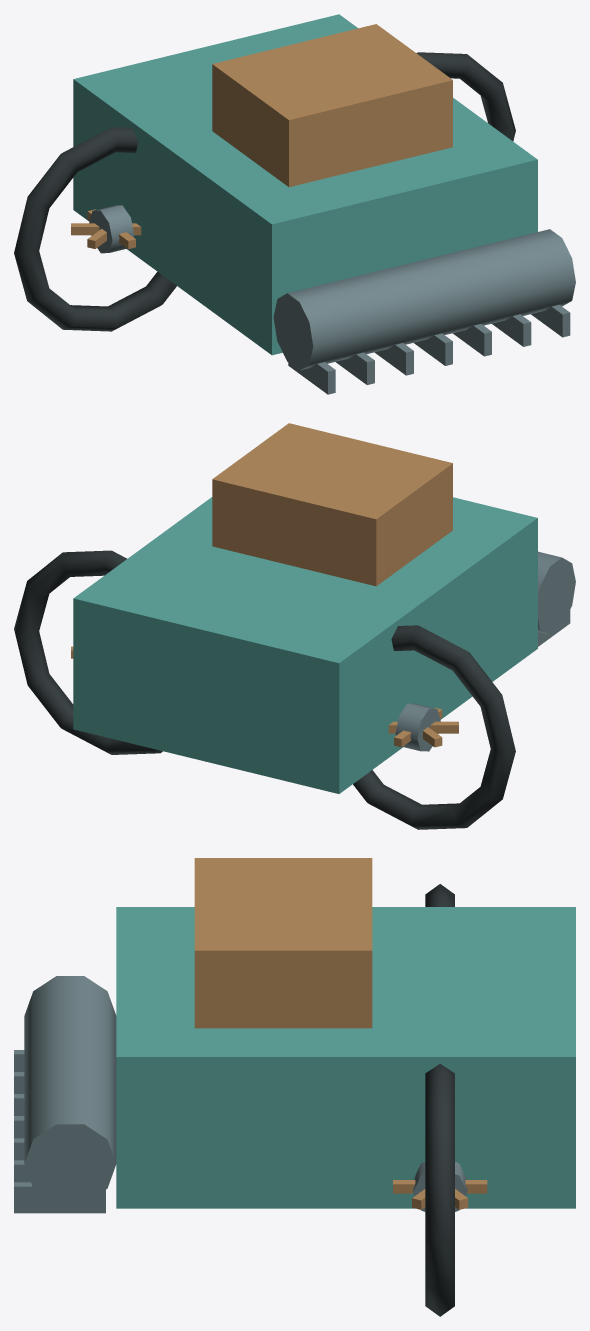
File: harvester.source.glb
The picture shows the model from 3 angles, top to bottom: view 1: azimuth 30°, elevation 25°; view 2: azimuth 150°, elevation 25°; view 3: azimuth 270°, elevation 25°; orthographic projection. The views are drawn at different scales.
Parts seen in each view (by area): view 1: harvester-main-body-mesh, harvester-operator-deck-mesh, harvester-working-roller-mesh, harvester-left-wheel-tire-mesh, harvester-right-wheel-tire-mesh, harvester-left-wheel-hub-mesh, harvester-working-tooth-1-mesh, harvester-working-tooth-6-mesh, harvester-working-tooth-7-mesh, harvester-working-tooth-2-mesh, harvester-working-tooth-3-mesh, harvester-working-tooth-4-mesh (+1 smaller); view 2: harvester-main-body-mesh, harvester-operator-deck-mesh, harvester-left-wheel-tire-mesh, harvester-right-wheel-tire-mesh, harvester-working-roller-mesh, harvester-left-wheel-hub-mesh; view 3: harvester-main-body-mesh, harvester-operator-deck-mesh, harvester-working-roller-mesh, harvester-right-wheel-tire-mesh, harvester-working-tooth-7-mesh, harvester-right-wheel-hub-mesh, harvester-right-wheel-spoke-0-mesh.
Boxes of the visible parts, bbox=[...] form: harvester-main-body-mesh: bbox=[73, 14, 537, 355]; harvester-operator-deck-mesh: bbox=[212, 24, 452, 187]; harvester-working-roller-mesh: bbox=[273, 229, 575, 370]; harvester-left-wheel-tire-mesh: bbox=[14, 127, 176, 331]; harvester-right-wheel-tire-mesh: bbox=[416, 52, 515, 141]; harvester-left-wheel-hub-mesh: bbox=[89, 205, 134, 253]; harvester-working-tooth-1-mesh: bbox=[288, 362, 335, 394]; harvester-working-tooth-6-mesh: bbox=[492, 314, 531, 346]; harvester-working-tooth-7-mesh: bbox=[531, 304, 570, 337]; harvester-working-tooth-2-mesh: bbox=[336, 352, 374, 384]; harvester-working-tooth-3-mesh: bbox=[374, 343, 413, 375]; harvester-working-tooth-4-mesh: bbox=[414, 333, 452, 365]; harvester-main-body-mesh: bbox=[73, 497, 537, 793]; harvester-operator-deck-mesh: bbox=[212, 423, 452, 586]; harvester-left-wheel-tire-mesh: bbox=[353, 625, 515, 829]; harvester-right-wheel-tire-mesh: bbox=[14, 550, 162, 754]; harvester-working-roller-mesh: bbox=[538, 551, 575, 634]; harvester-left-wheel-hub-mesh: bbox=[395, 703, 440, 751]; harvester-main-body-mesh: bbox=[116, 907, 575, 1208]; harvester-operator-deck-mesh: bbox=[194, 858, 372, 1028]; harvester-working-roller-mesh: bbox=[24, 976, 116, 1203]; harvester-right-wheel-tire-mesh: bbox=[425, 1064, 454, 1316]; harvester-working-tooth-7-mesh: bbox=[14, 1182, 105, 1213]; harvester-right-wheel-hub-mesh: bbox=[413, 1162, 467, 1211]; harvester-right-wheel-spoke-0-mesh: bbox=[393, 1180, 487, 1193].
Size of the model in its own units: 3.21 by 1.66 by 2.69.
